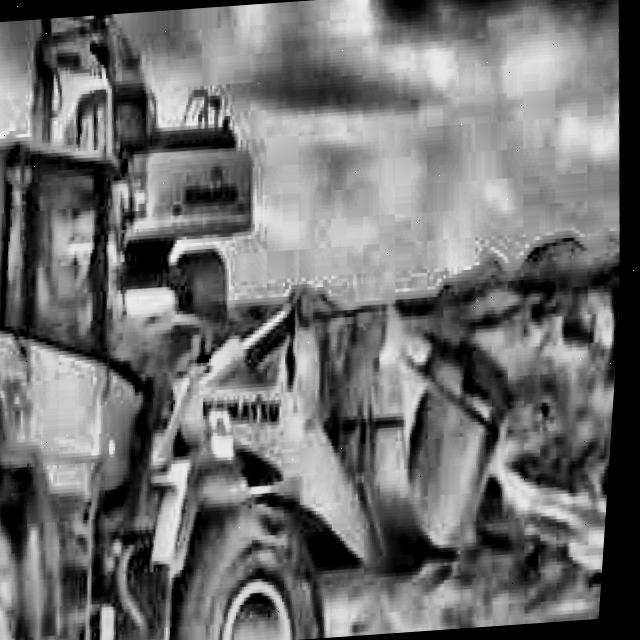buldozerpayloadergrader: (0, 103, 540, 640)
excavator: (11, 4, 273, 325)
